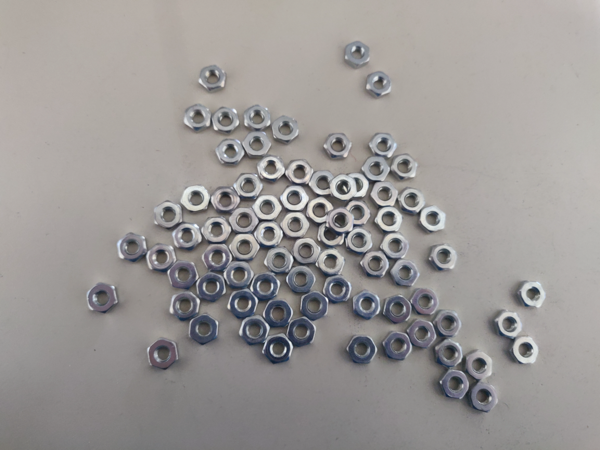nut: (86, 282, 120, 316), (195, 273, 231, 304), (146, 340, 178, 373), (262, 334, 295, 366), (117, 233, 149, 265), (347, 334, 378, 367), (190, 313, 220, 347), (282, 264, 317, 293), (248, 272, 283, 301), (226, 287, 258, 318), (201, 214, 233, 245), (516, 280, 549, 310), (382, 296, 415, 326), (239, 105, 273, 134), (262, 248, 297, 276), (435, 339, 468, 368), (282, 159, 317, 186), (202, 243, 233, 273), (287, 318, 318, 348), (263, 301, 294, 331), (168, 294, 200, 323), (353, 291, 385, 320), (299, 292, 331, 321), (346, 227, 378, 256), (409, 320, 440, 349), (417, 205, 448, 234), (513, 335, 541, 367), (389, 260, 421, 288), (216, 139, 246, 168), (383, 333, 412, 363), (339, 171, 369, 200), (361, 251, 392, 279), (239, 317, 267, 348), (180, 185, 212, 212), (470, 385, 502, 412), (224, 261, 256, 288), (279, 185, 311, 212), (272, 114, 299, 146), (154, 202, 183, 231), (495, 312, 525, 340), (231, 233, 259, 263), (328, 174, 358, 202), (306, 195, 336, 223), (184, 106, 215, 133), (439, 373, 470, 400), (293, 236, 320, 267), (345, 198, 376, 225), (324, 133, 353, 161), (174, 223, 203, 251), (465, 351, 493, 380), (381, 232, 410, 260), (213, 105, 241, 134), (318, 221, 347, 249), (198, 66, 228, 93), (147, 246, 178, 272), (233, 172, 264, 198), (257, 155, 289, 180), (365, 71, 394, 98), (213, 185, 240, 214), (282, 210, 309, 239), (345, 41, 375, 67), (168, 262, 198, 288), (229, 207, 259, 233), (434, 310, 465, 335), (412, 289, 440, 316), (242, 131, 271, 157), (369, 181, 400, 205), (255, 194, 282, 221), (376, 206, 404, 232), (325, 276, 351, 304), (432, 244, 461, 269), (317, 250, 346, 275), (369, 133, 400, 156), (325, 208, 356, 231), (391, 156, 420, 180), (364, 156, 393, 180), (399, 189, 427, 213), (255, 224, 285, 246), (309, 170, 336, 193)
